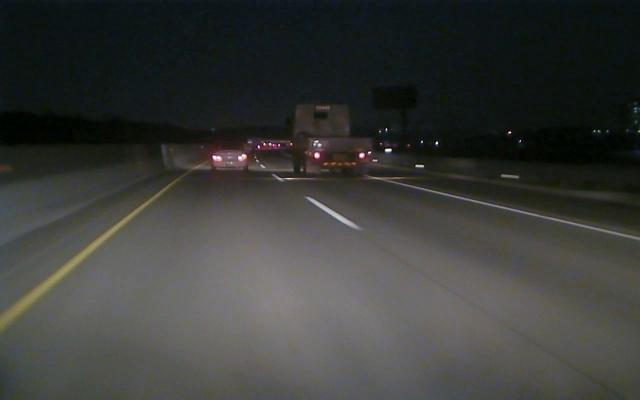lane: (3, 187, 167, 332), (363, 175, 636, 241), (302, 193, 365, 232)
